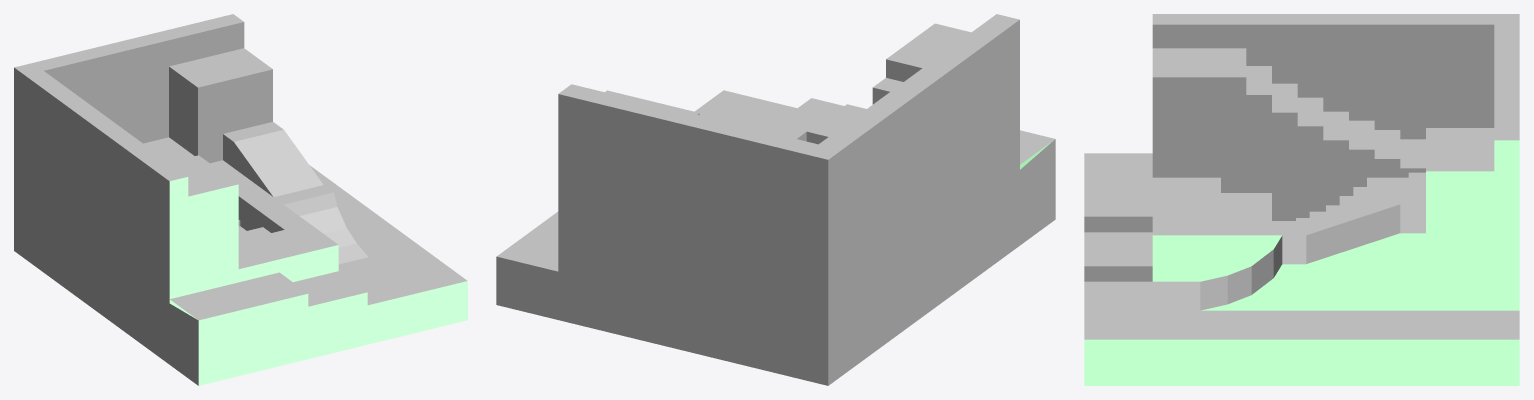
Rendered from PlayerMoveType_Area.fbx.
3 views of the same model, side by side, from view 1: azimuth 30°, elevation 25°; view 2: azimuth 150°, elevation 25°; view 3: azimuth 270°, elevation 25° (orthographic). The views are drawn at different scales.
Visible parts, largest first — view 1: PlayerMoveType_Area; view 2: PlayerMoveType_Area; view 3: PlayerMoveType_Area.
Boxes of the visible parts, x1,y1,x2,y2 form: PlayerMoveType_Area: (14, 14, 467, 385); PlayerMoveType_Area: (496, 14, 1055, 385); PlayerMoveType_Area: (1084, 14, 1519, 385).
Bounding box in the file's own units: 10.75 × 7 × 12.75.
